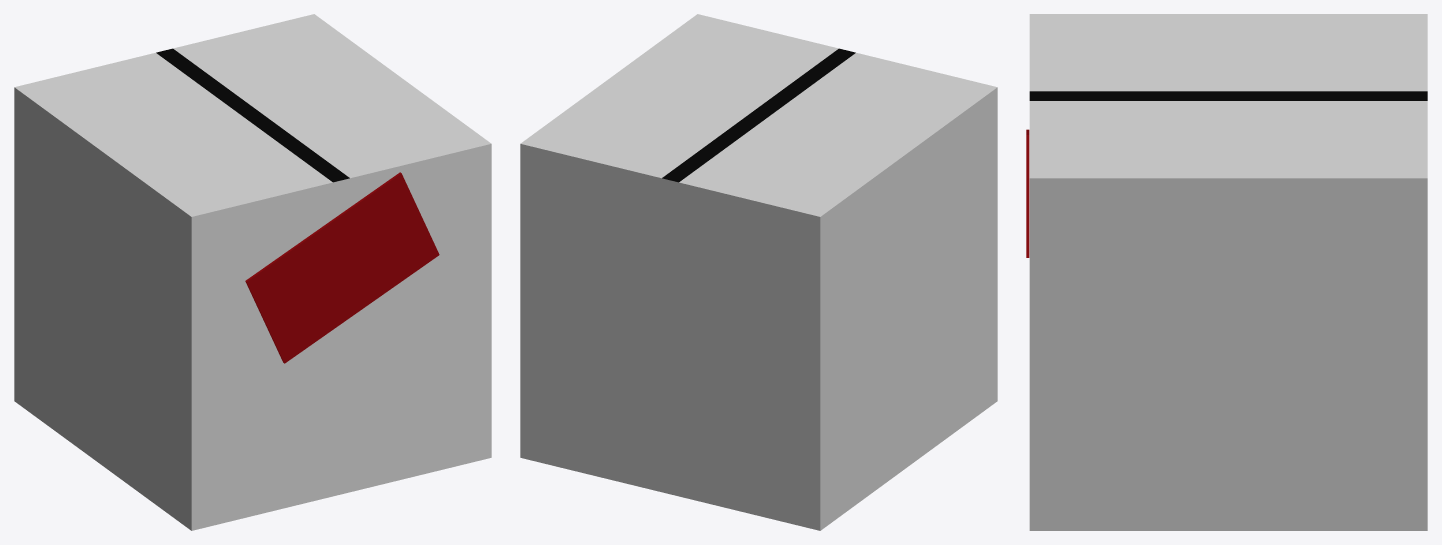
Rendered from CardboardBox.glb.
3 views of the same model, side by side, from view 1: azimuth 30°, elevation 25°; view 2: azimuth 150°, elevation 25°; view 3: azimuth 270°, elevation 25° (orthographic). The views are drawn at different scales.
Parts seen in each view (by area): view 1: CardboardBox; view 2: CardboardBox; view 3: CardboardBox.
Part boxes in pixels (left/top/right/bottom): CardboardBox: left=14, top=14, right=491, bottom=530; CardboardBox: left=520, top=14, right=997, bottom=530; CardboardBox: left=1026, top=14, right=1427, bottom=530.
Size of the model in its own units: 0.3538 by 0.3538 by 0.3652.
